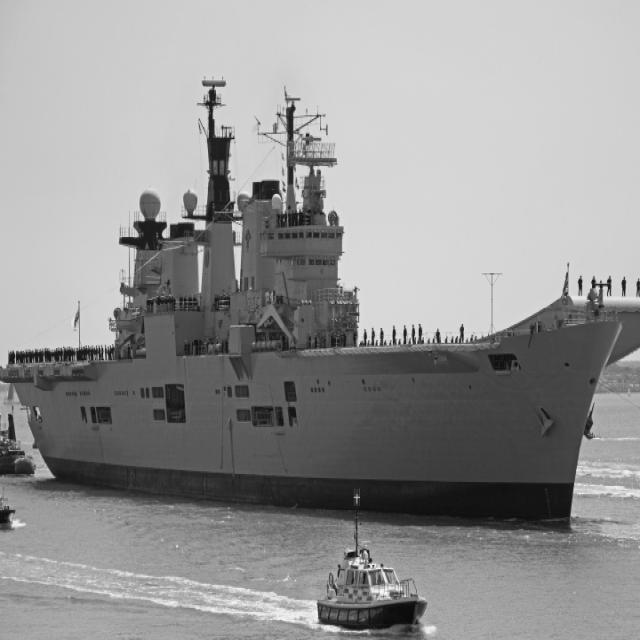Portanaves: (1, 67, 640, 535)
